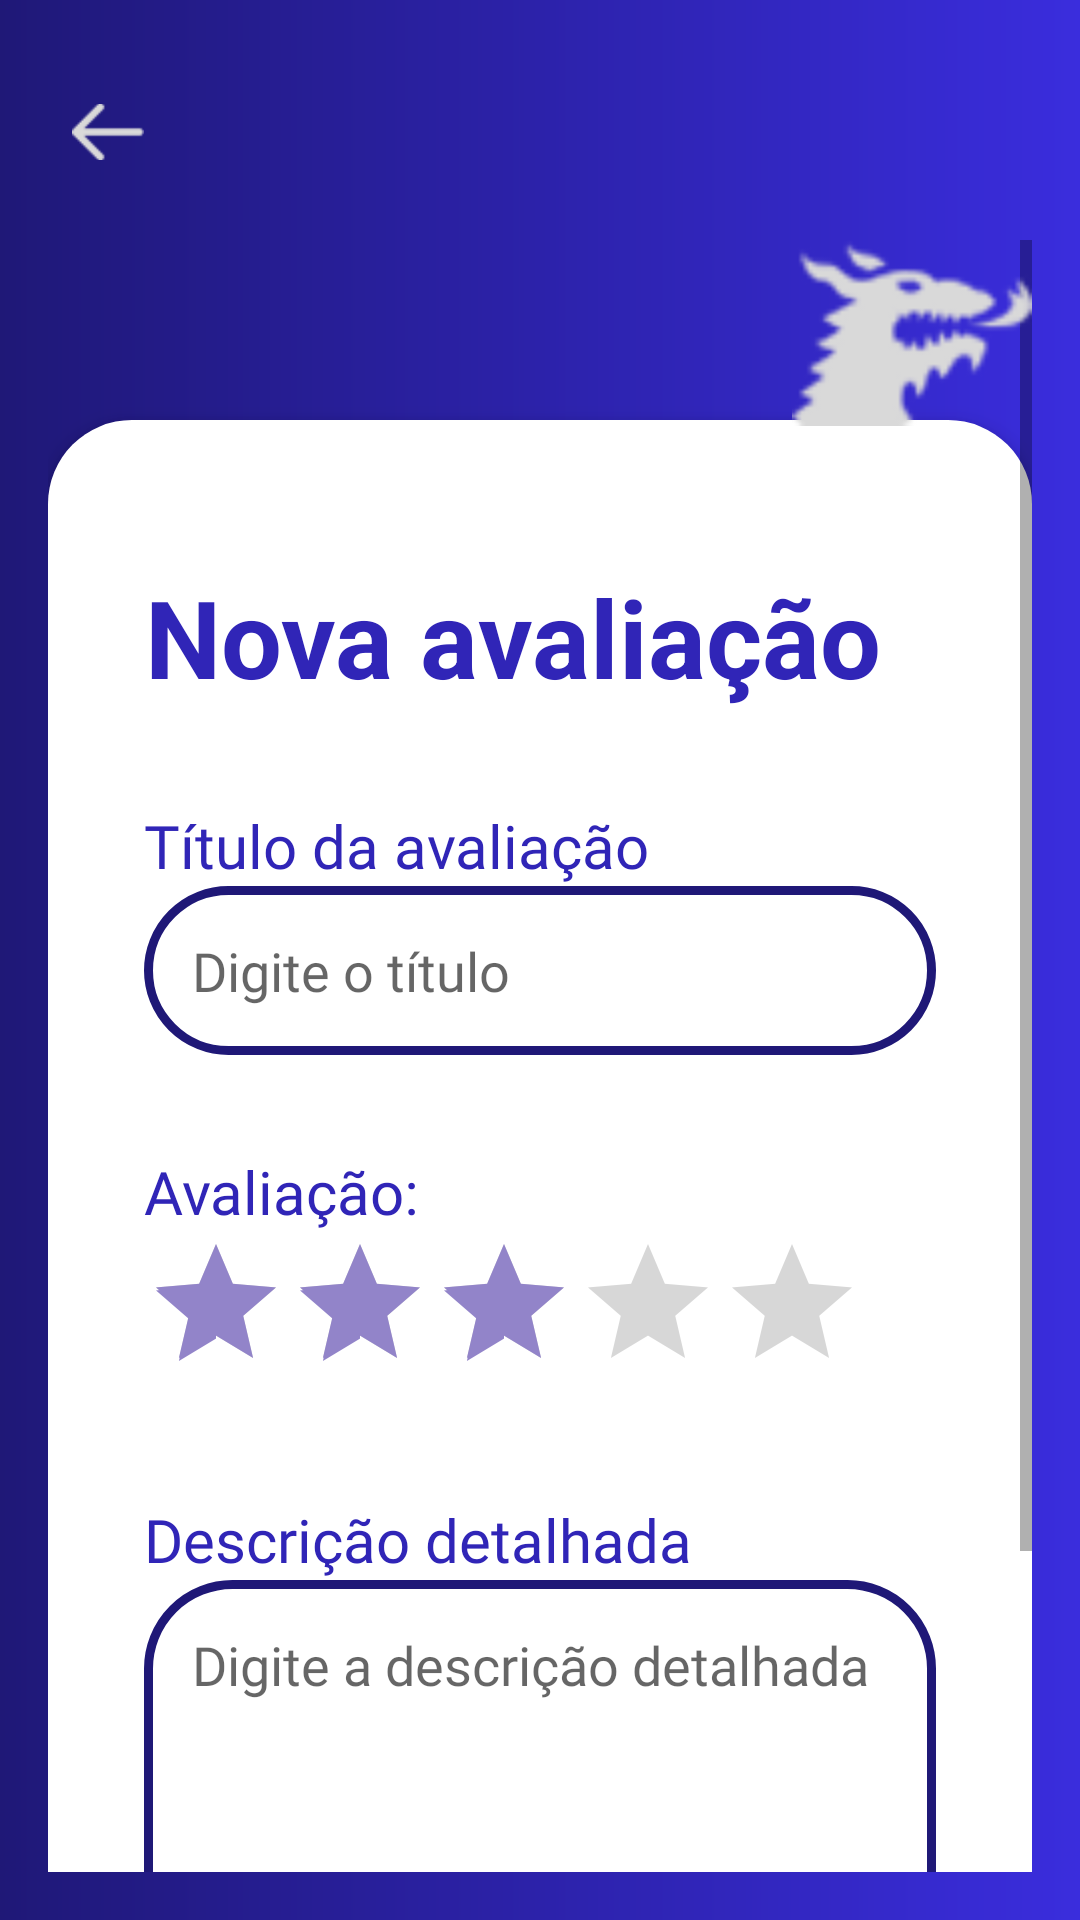

Locate icon controls on the screen. Image size 1080×1920, boxes as (x1, y1, x2, y2).
Mascote do projeto: (792, 240, 1032, 450)
Voltar: (72, 104, 144, 160)
